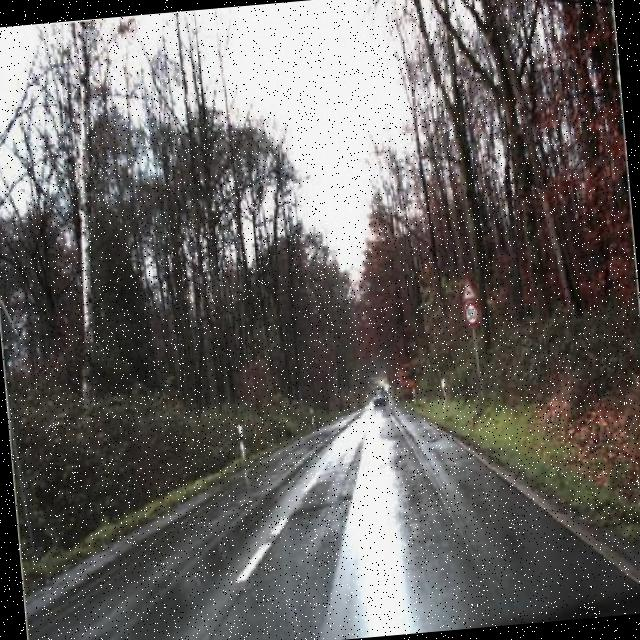Ograniczenie predkosci do 50: (462, 300, 481, 326)
